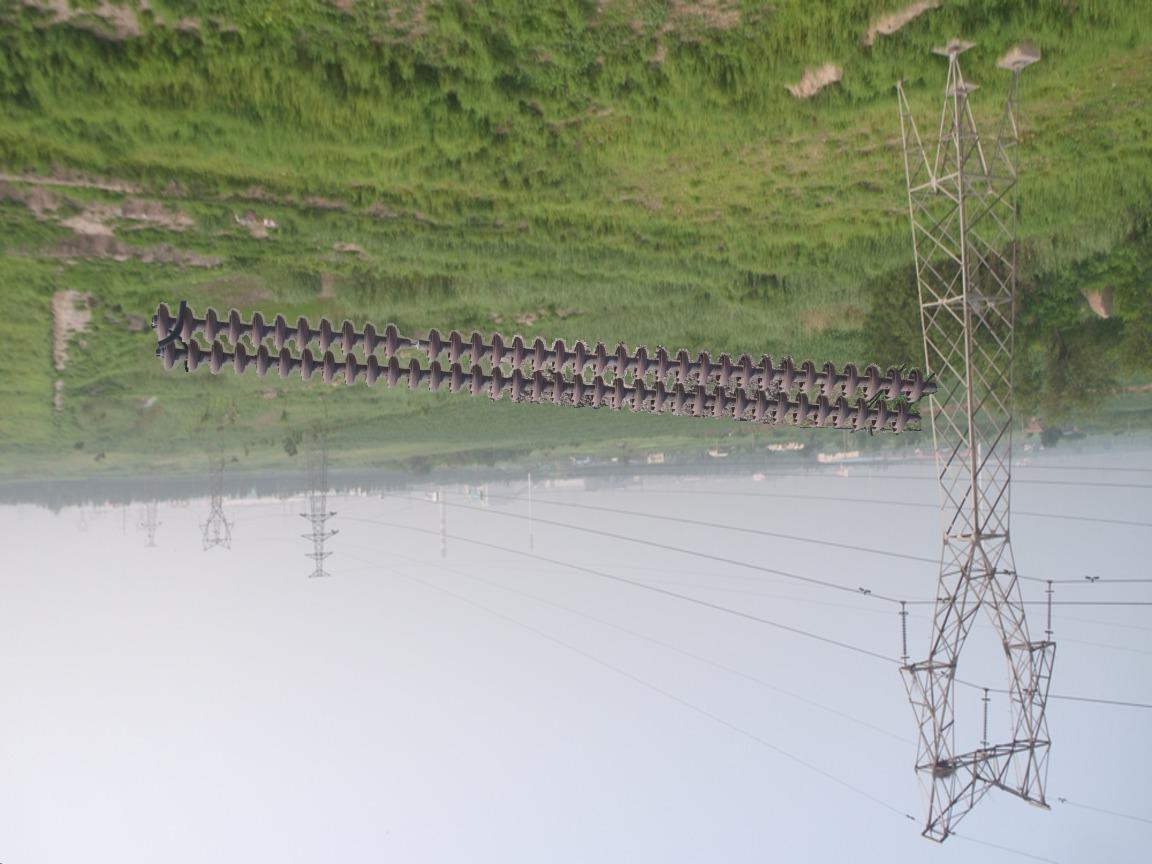insulator: (145, 299, 934, 440)
insulator_stringdrop: (378, 320, 444, 365)
